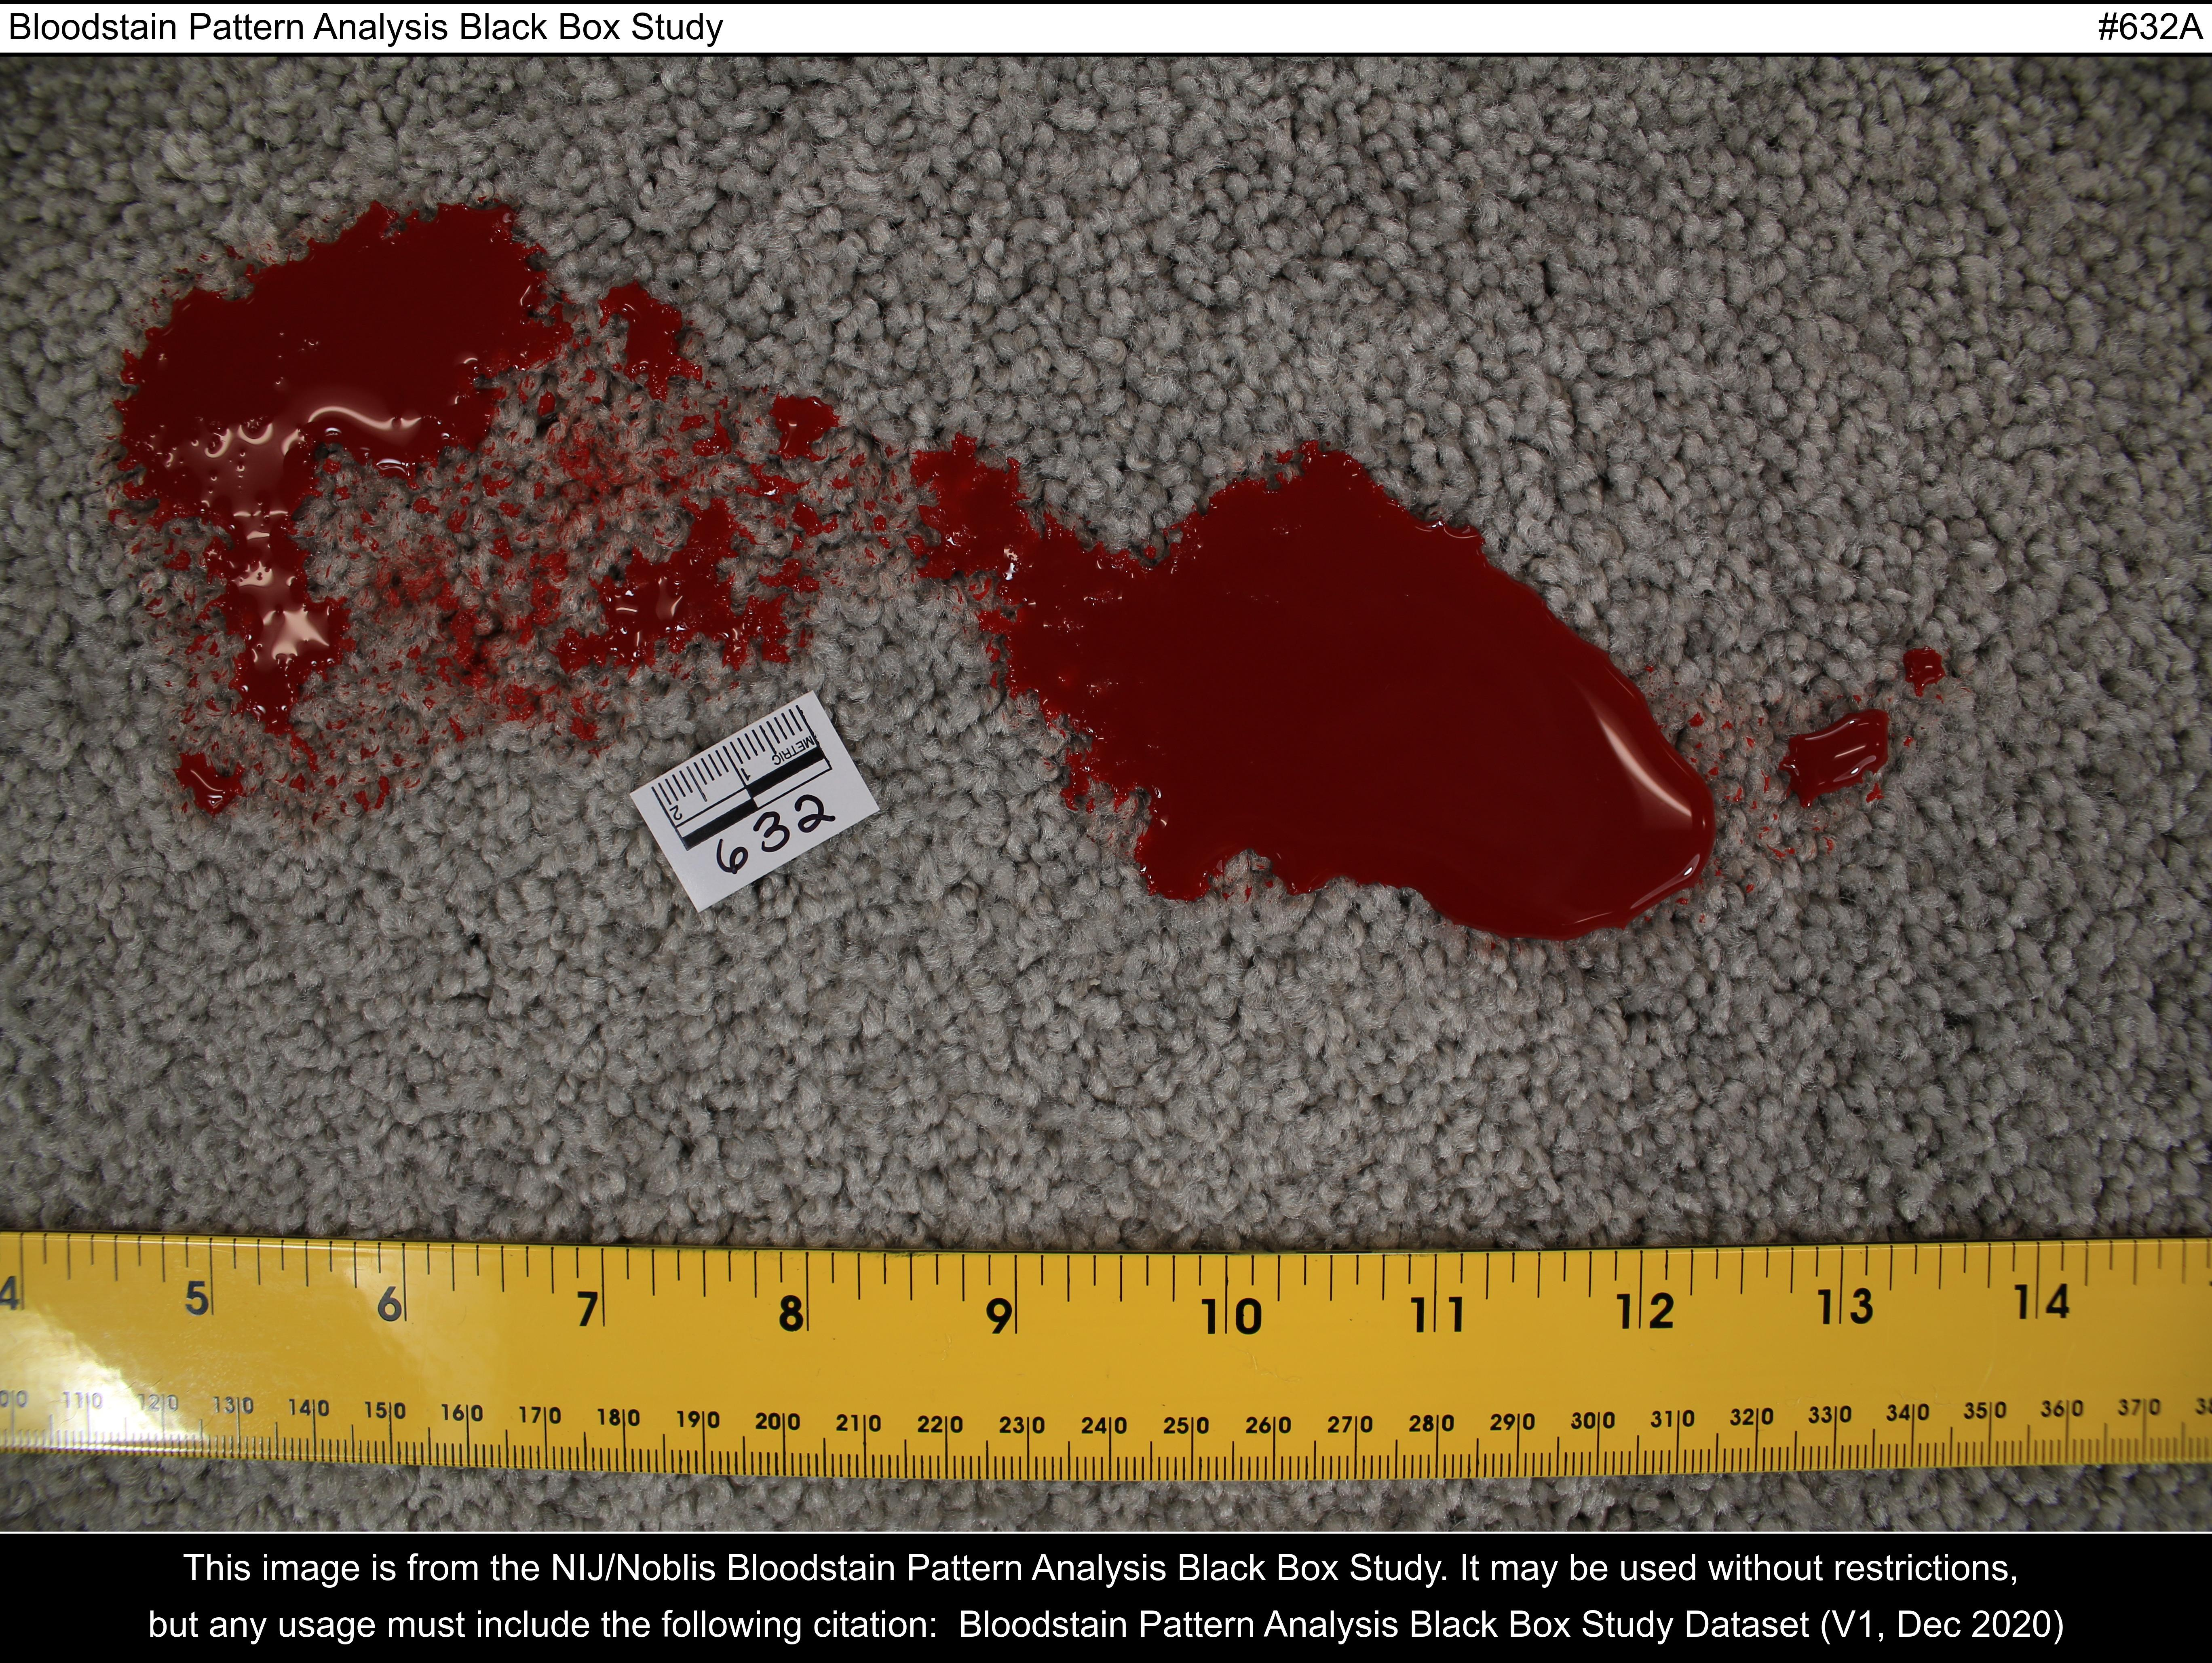Passive: (887, 409, 2008, 982), (42, 224, 632, 828), (644, 281, 829, 681)
